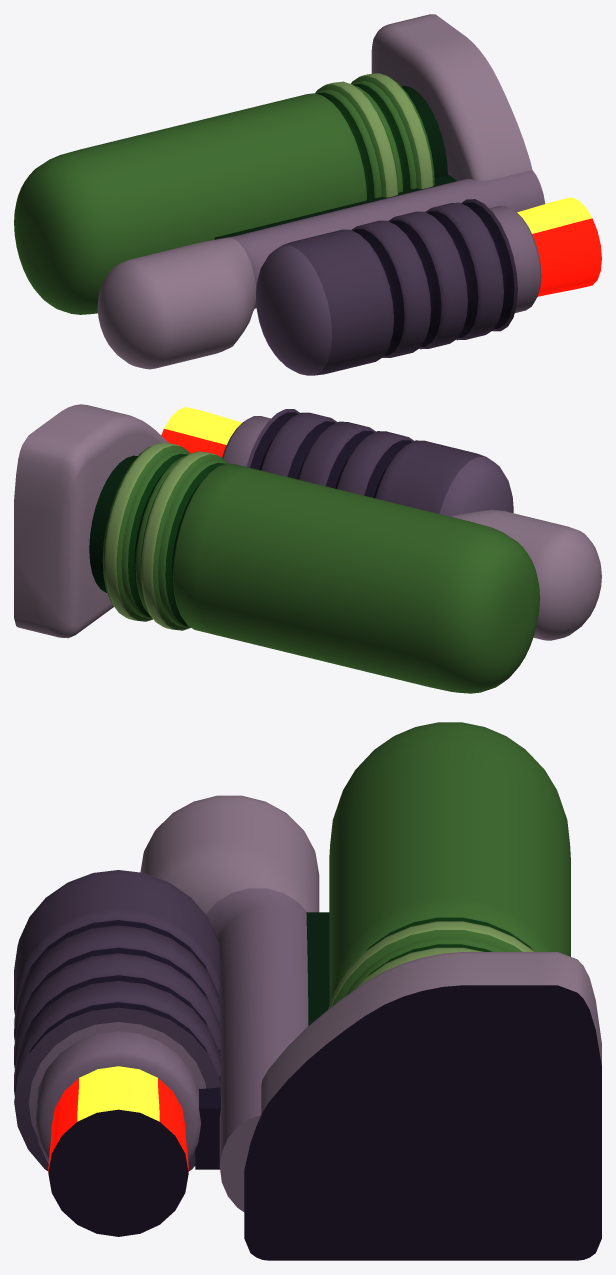
File: tank_pod_left_205.glb
The picture shows the model from 3 angles, top to bottom: view 1: azimuth 30°, elevation 25°; view 2: azimuth 150°, elevation 25°; view 3: azimuth 270°, elevation 25°; orthographic projection. The views are drawn at different scales.
Parts seen in each view (by area): view 1: tank.001, coil.001, rail.001, block.001, core.001, web_tank.001; view 2: tank.001, block.001, coil.001, rail.001, core.001; view 3: block.001, tank.001, coil.001, rail.001, core.001, web_tank.001, web_coil.001.
Boxes of the visible parts, bbox=[...] form: tank.001: bbox=[14, 73, 447, 314]; coil.001: bbox=[256, 199, 541, 375]; rail.001: bbox=[97, 170, 545, 369]; block.001: bbox=[371, 14, 532, 180]; core.001: bbox=[517, 197, 601, 296]; web_tank.001: bbox=[214, 175, 456, 239]; tank.001: bbox=[89, 442, 539, 693]; block.001: bbox=[14, 404, 168, 638]; coil.001: bbox=[222, 409, 513, 516]; rail.001: bbox=[451, 509, 601, 640]; core.001: bbox=[161, 407, 241, 457]; block.001: bbox=[244, 952, 601, 1260]; tank.001: bbox=[328, 722, 570, 1009]; coil.001: bbox=[14, 870, 220, 1171]; rail.001: bbox=[140, 795, 319, 1211]; core.001: bbox=[48, 1066, 188, 1236]; web_tank.001: bbox=[306, 912, 329, 1025]; web_coil.001: bbox=[195, 1022, 220, 1169].
Bounding box in the file's own units: 23.65 × 9.55 × 18.
